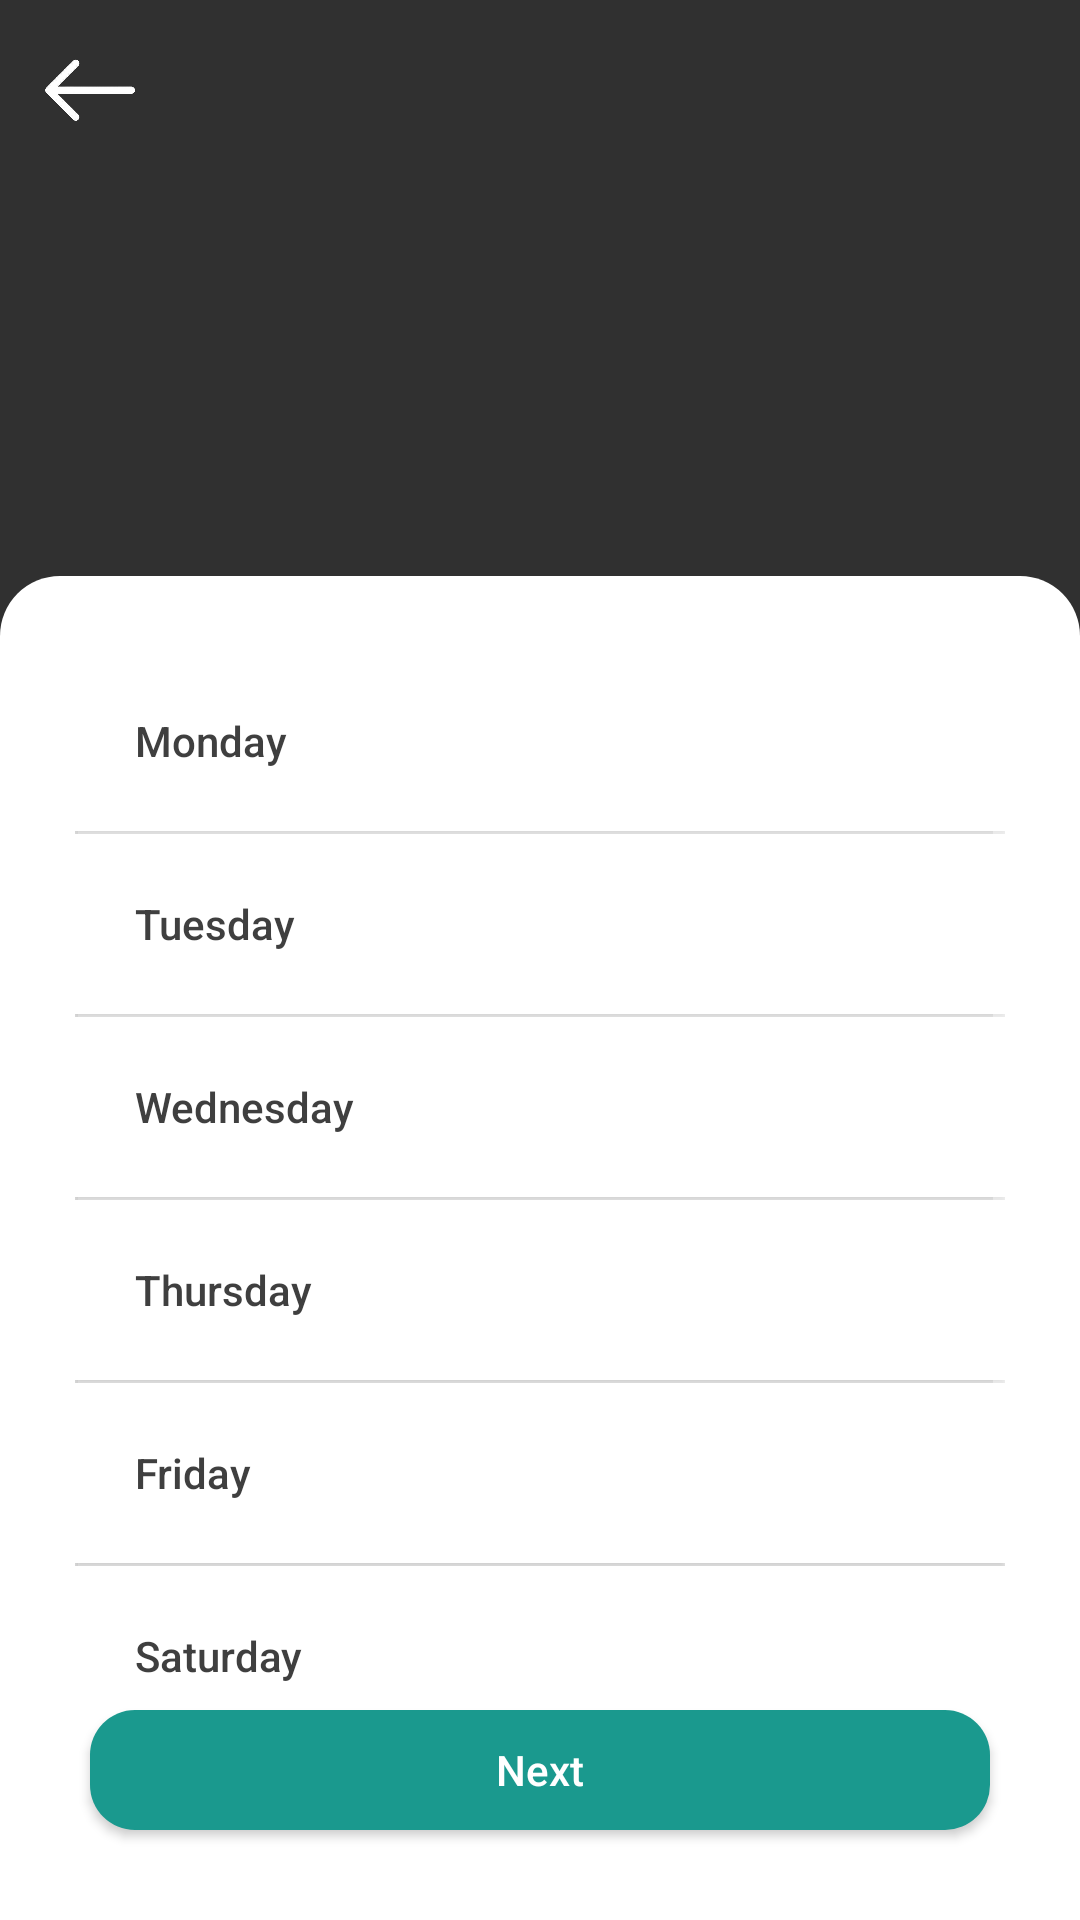

Screen size 1080w x 1920h. Icon name, then its center in pixels as [x,y]:
back: [90,90]
